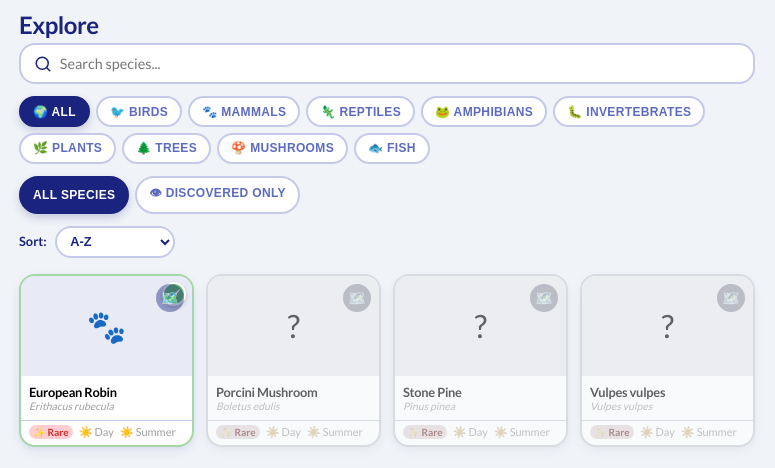
Test: ChecklistPage › search filters species by commonName
The image size is (775, 468).
Type "robin" into the field labelled "Search species" at [400, 64], box [60,55,740,72]
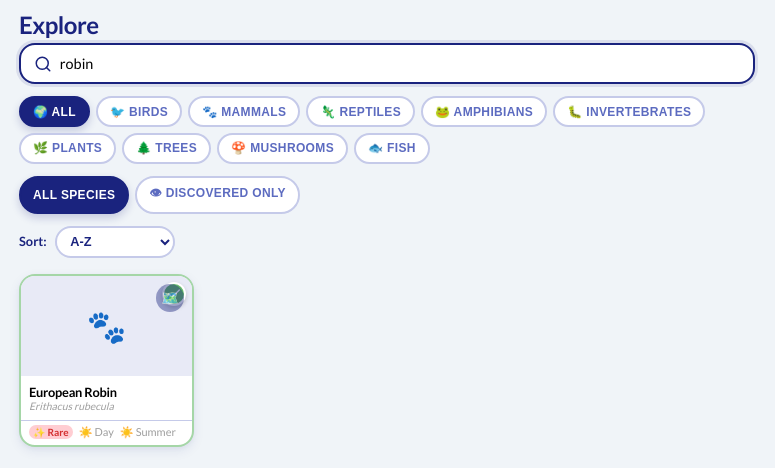
Expected: the heading "European Robin" is shown, [29,384,117,400]
Now the button "Porcini Mushroom" is gone
